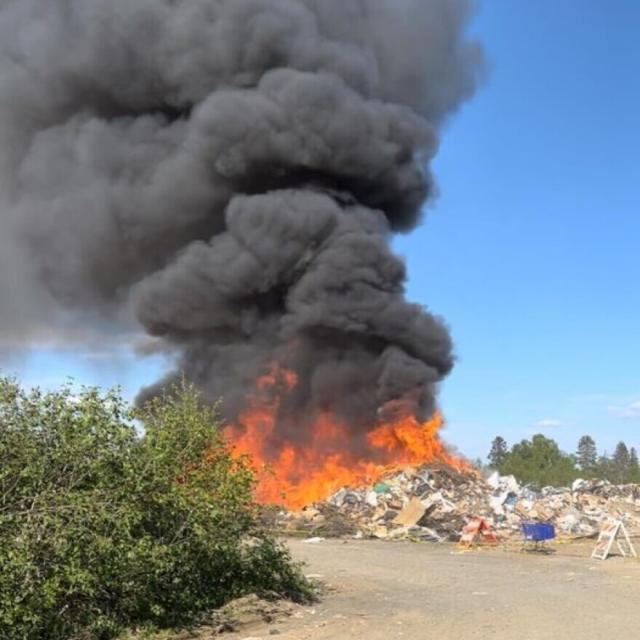Fire: (200, 406, 440, 504)
Smoke: (0, 0, 475, 425)
